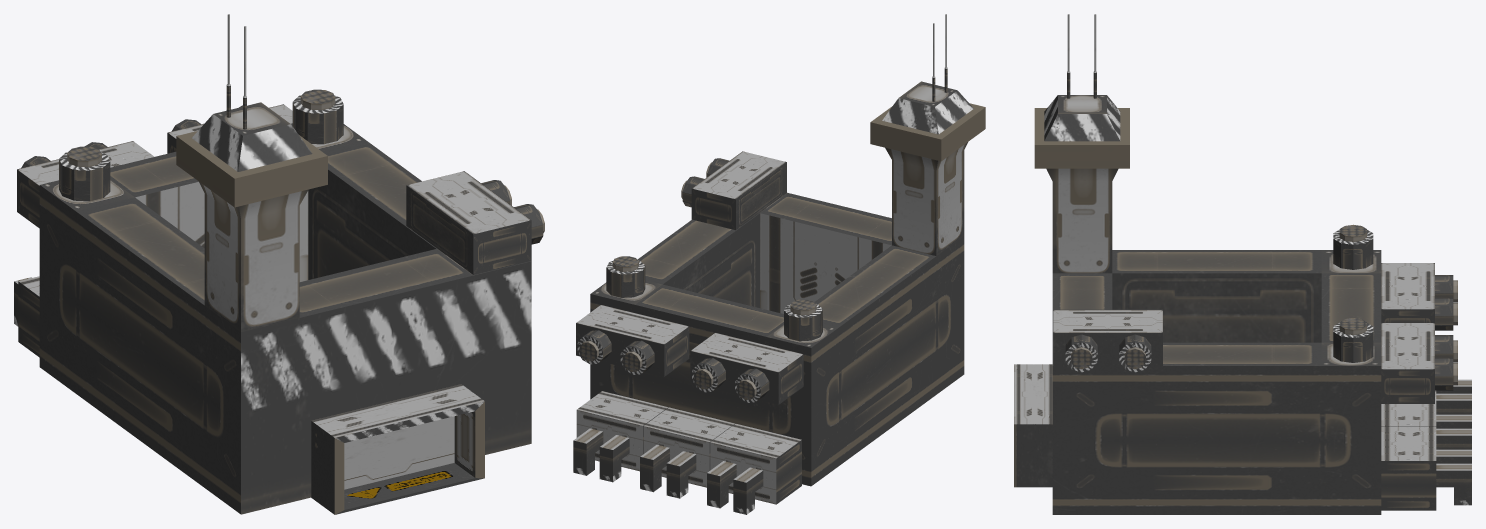
Rendered from Vehicle_foundry building V3.fbx.
The picture shows the model from 3 angles, left to right: view 1: azimuth 30°, elevation 25°; view 2: azimuth 150°, elevation 25°; view 3: azimuth 270°, elevation 25°; orthographic projection. The views are drawn at different scales.
Visible parts, largest first — view 1: polySurface41; view 2: polySurface41; view 3: polySurface41.
Boxes of the visible parts, box(x1,y1,x2,y2) form: polySurface41: box(14, 14, 544, 514); polySurface41: box(573, 14, 985, 514); polySurface41: box(1014, 14, 1471, 514).
Size of the model in its own units: 572 by 792 by 835.
